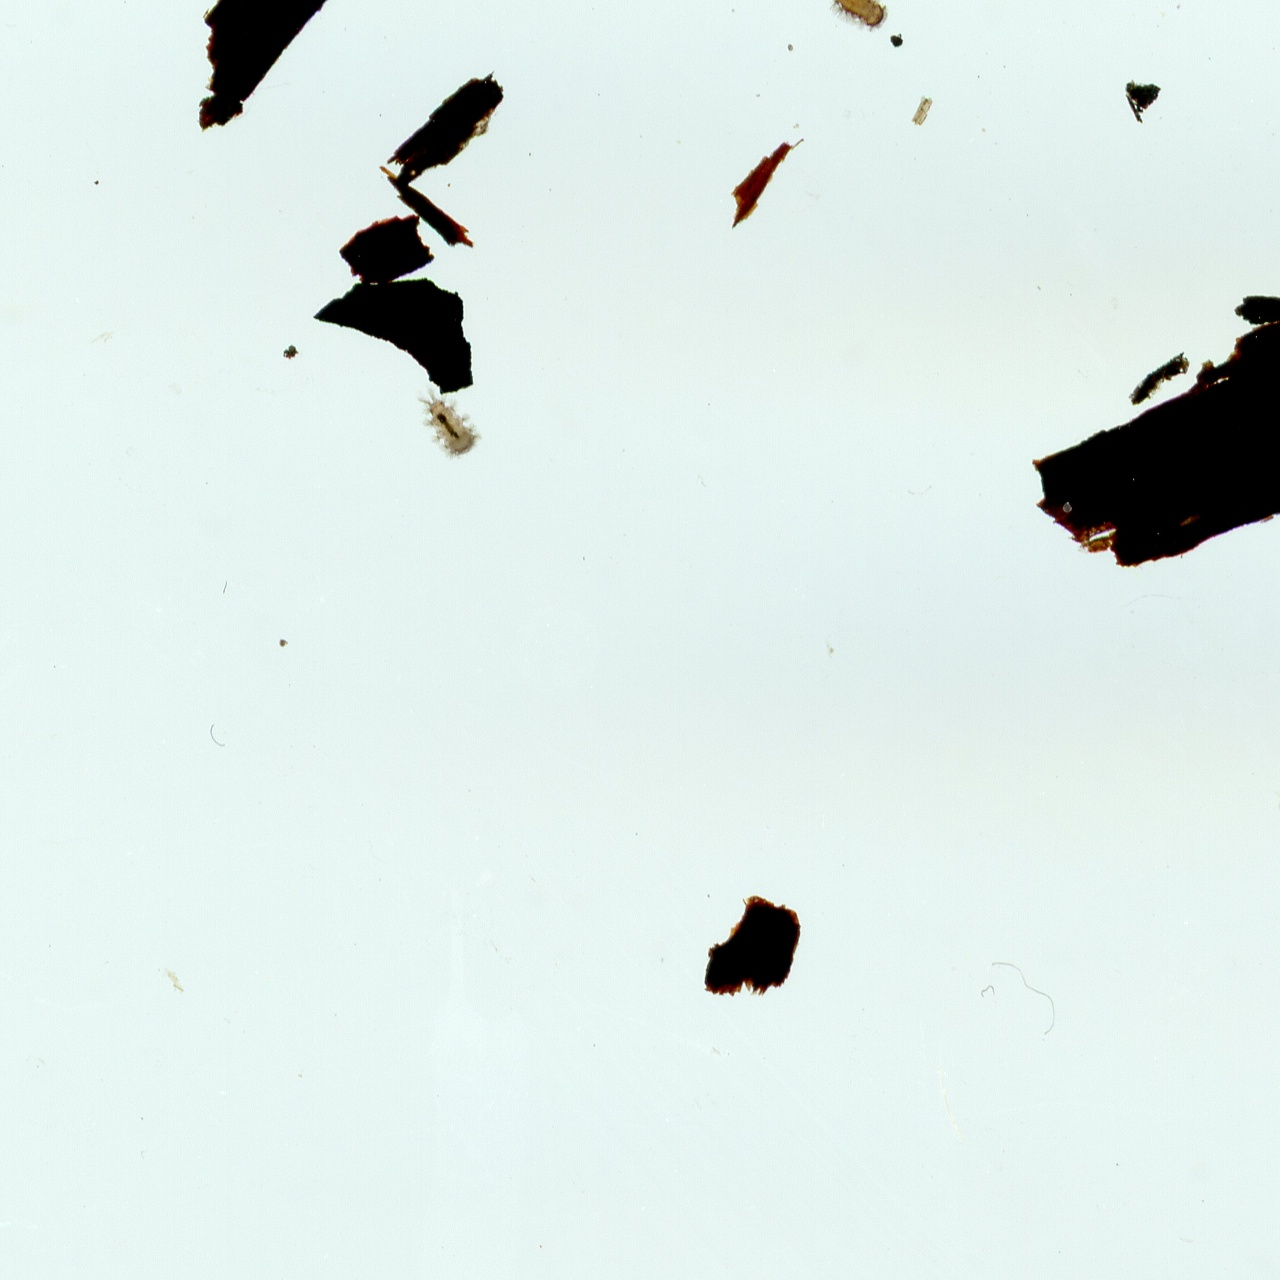arthropod: (399, 366, 496, 472), (806, 0, 903, 44)
